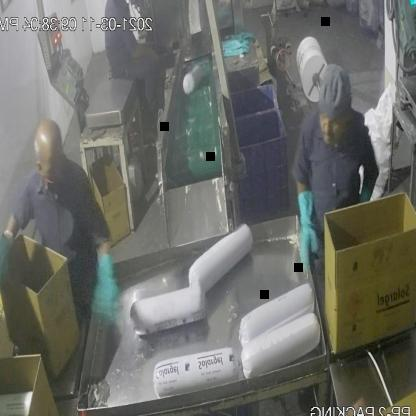glove: (92, 252, 121, 326), (295, 188, 318, 279), (0, 227, 15, 299)
no_glove: (128, 34, 163, 73)
